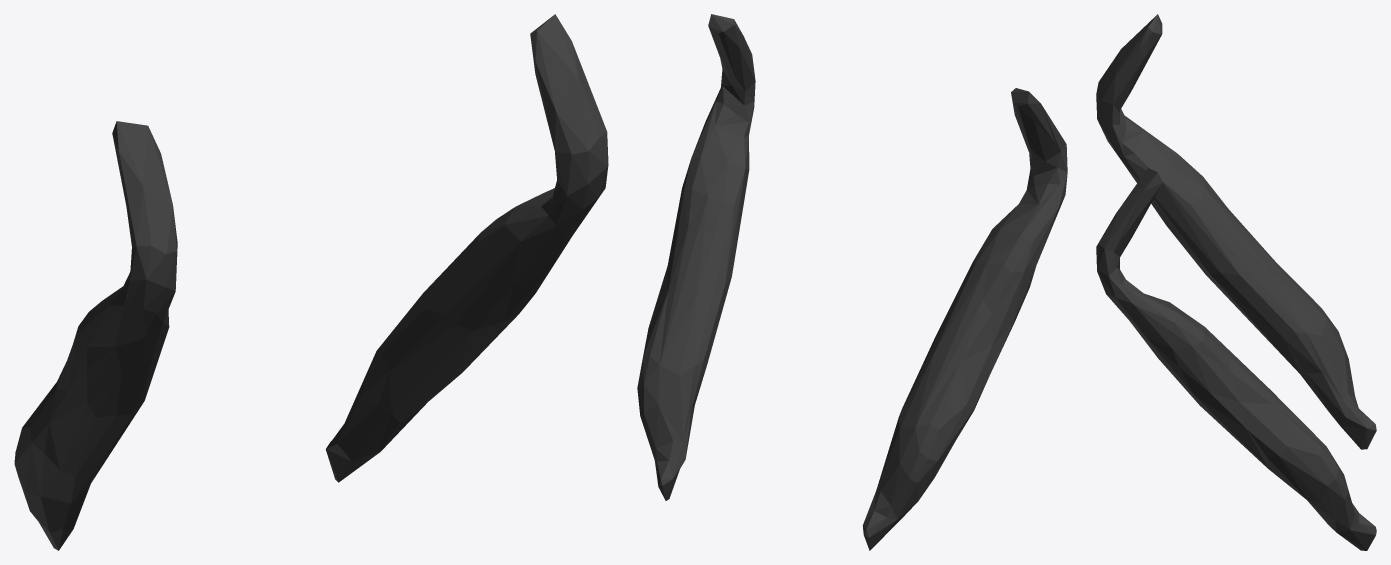
Rendered from m_biceps_brachii.glb.
The picture shows the model from 3 angles, left to right: view 1: azimuth 30°, elevation 25°; view 2: azimuth 150°, elevation 25°; view 3: azimuth 270°, elevation 25°; orthographic projection. The views are drawn at different scales.
Visible parts, largest first — view 1: m_biceps_brachii; view 2: m_biceps_brachii; view 3: m_biceps_brachii.
Boxes of the visible parts, <box> form: m_biceps_brachii: <box>14,14,608,550</box>; m_biceps_brachii: <box>637,14,1067,550</box>; m_biceps_brachii: <box>1096,14,1376,550</box>.
Bounding box in the file's own units: 0.00536 × 0.00577 × 0.00361.
Materials: 1 (1 with a texture image).
